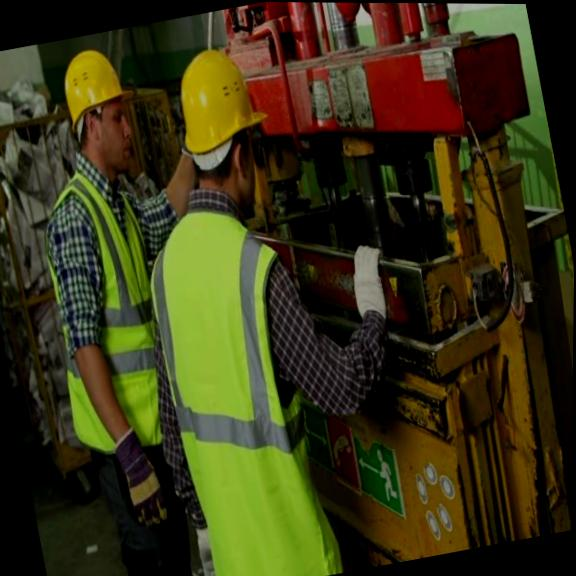safety_vest: (144, 212, 342, 576), (27, 156, 184, 465)
